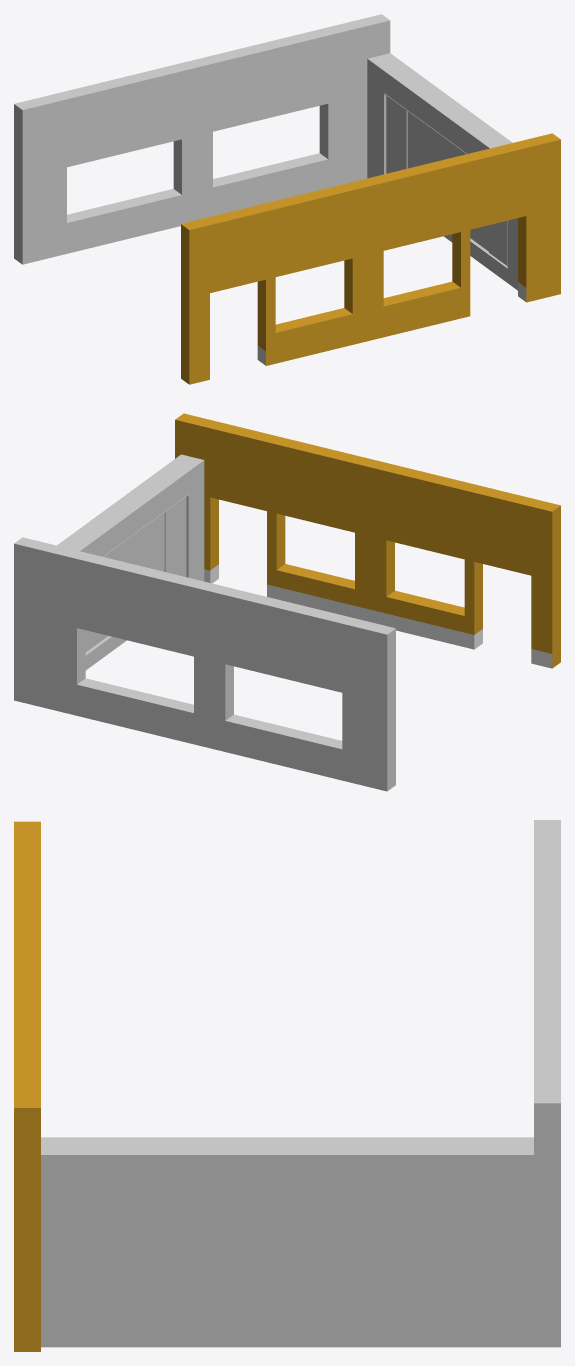
File: classroom 외벽.fbx
3 renders of one model, top to bottom at view 1: azimuth 30°, elevation 25°; view 2: azimuth 150°, elevation 25°; view 3: azimuth 270°, elevation 25°, orthographic. The views are drawn at different scales.
Visible parts, largest first — view 1: Box179, Box180, Box182, Object006, screen, Box169; view 2: Box179, Box180, Box182, screen, Object006, Box169; view 3: Box182, Box180, Box179.
Part boxes in pixels (x1,y1,x2,y2): Box179: (14,14,390,264); Box180: (181,133,560,384); Box182: (367,53,517,290); Object006: (386,96,507,265); screen: (407,112,488,251); Box169: (383,93,507,268); Box179: (14,537,395,791); Box180: (175,413,560,668); Box182: (57,454,204,670); screen: (85,513,164,652); Object006: (164,497,186,576); Box169: (85,494,188,655); Box182: (41,1137,533,1347); Box180: (14,821,40,1351); Box179: (534,820,560,1347).
Size of the model in its own units: 1768 by 699 by 1420.
